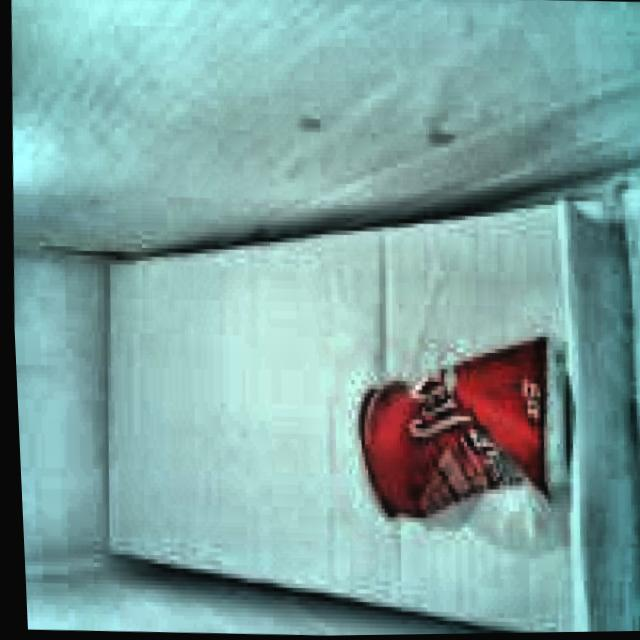Cans: (343, 310, 578, 531)
